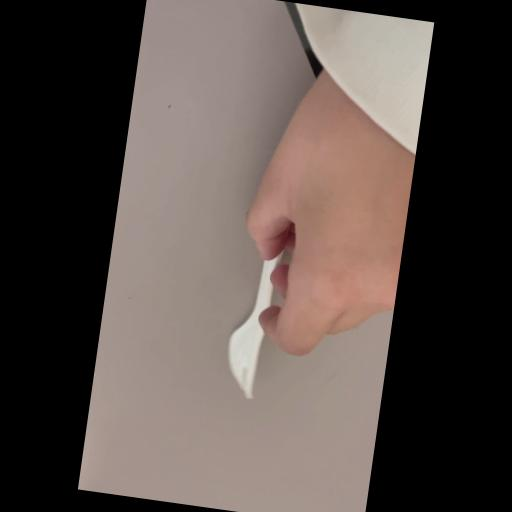utensil: (218, 206, 286, 406)
